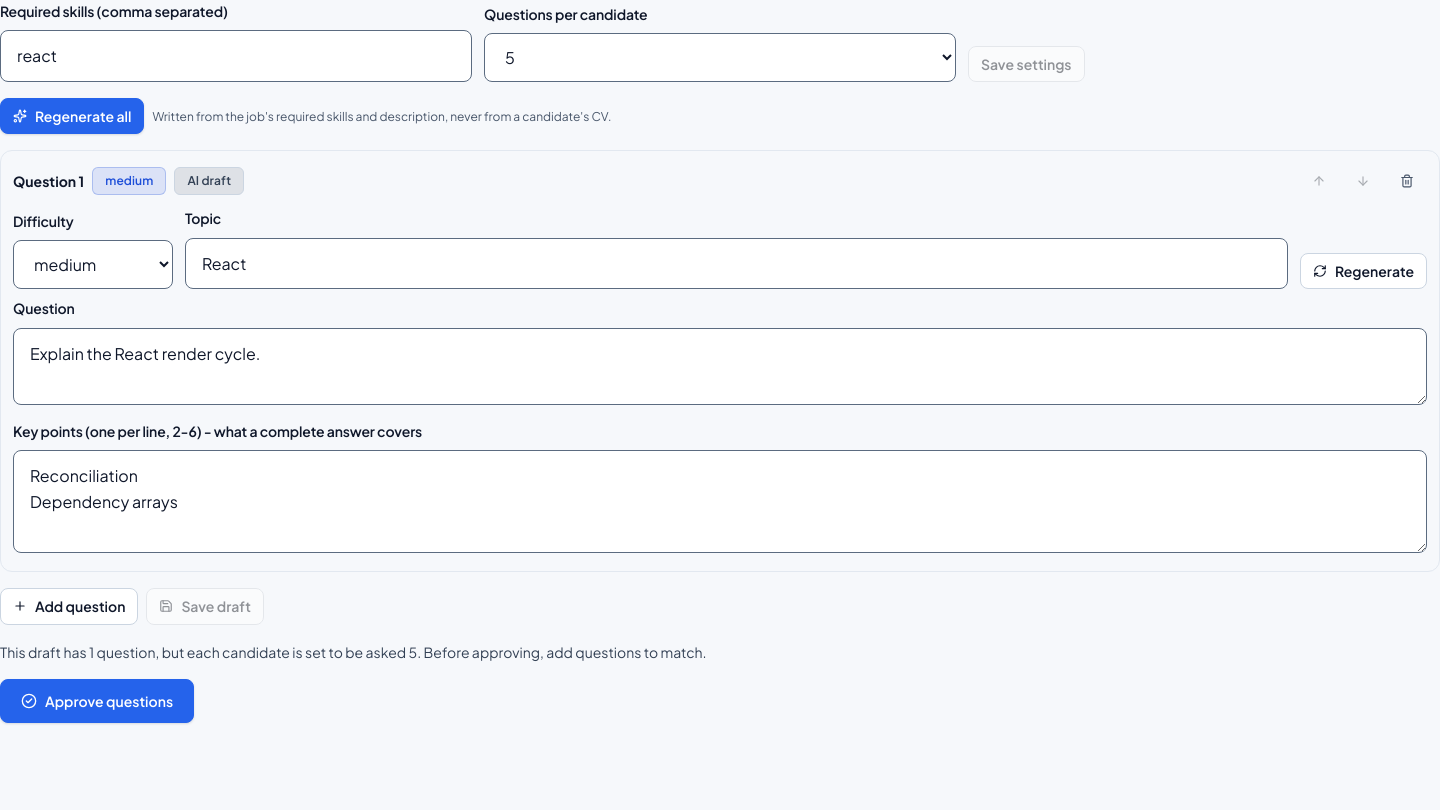
approving › asks first, and nothing is approved until it is confirmed
Click the button "Approve questions". click: (97, 701)
box: [0,679,194,724]
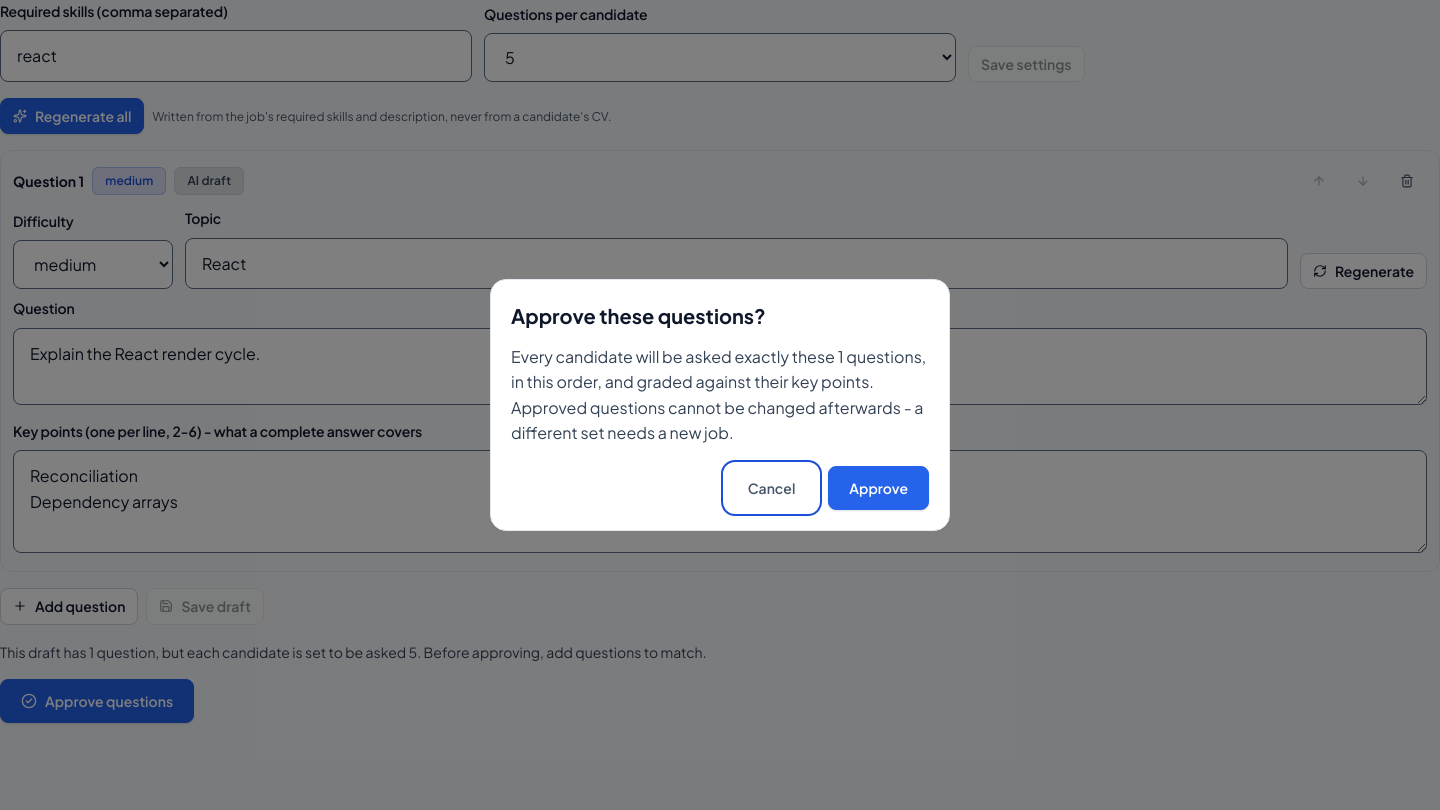
Expected: the dialog is shown
Expected: the dialog shows "cannot be changed afterwards", [511,346,926,443]
